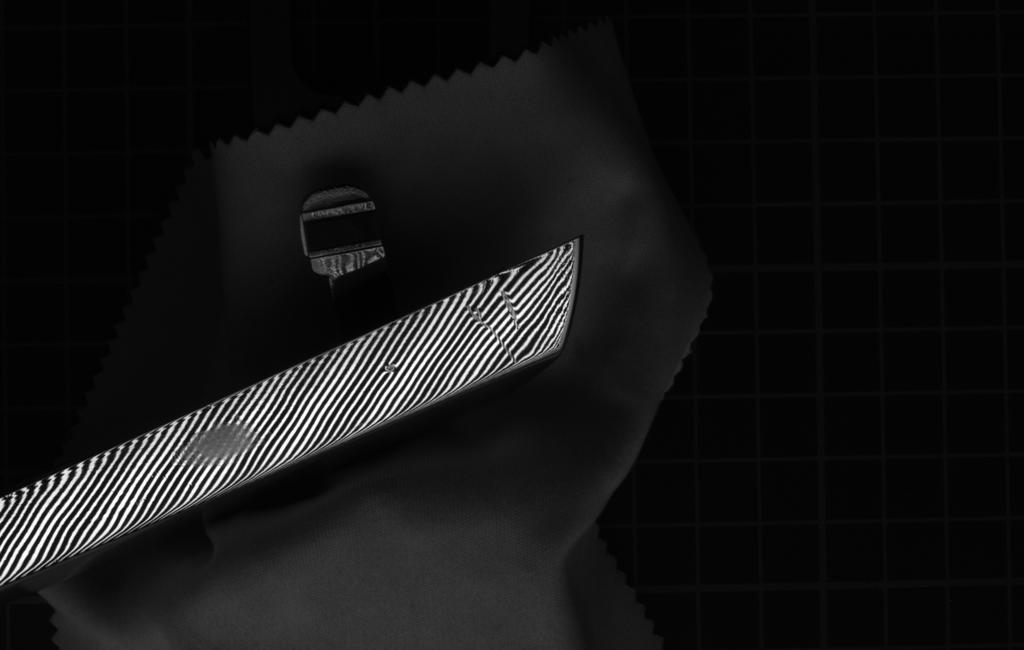Pierced: (376, 358, 410, 379)
Pitting: (169, 416, 277, 473)
Scratch: (464, 300, 524, 373), (497, 286, 532, 339)
